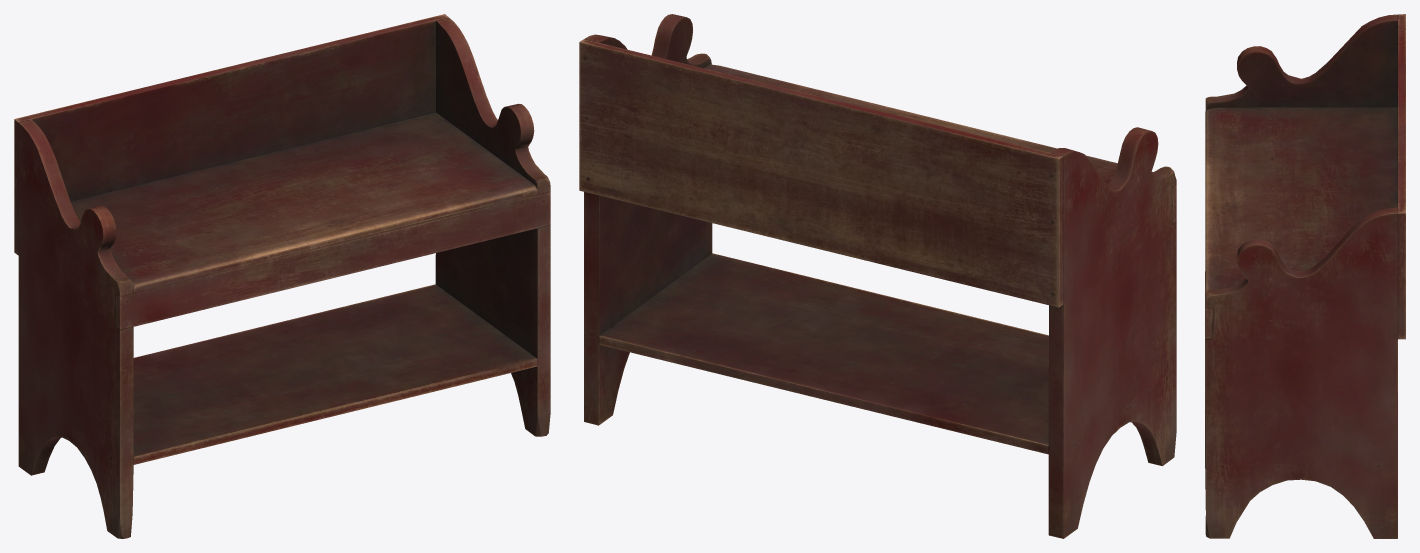
Rendered from painted_wooden_bench.glb.
3 views of the same model, side by side, from view 1: azimuth 30°, elevation 25°; view 2: azimuth 150°, elevation 25°; view 3: azimuth 270°, elevation 25° (orthographic). The views are drawn at different scales.
Visible parts, largest first — view 1: painted_wooden_bench; view 2: painted_wooden_bench; view 3: painted_wooden_bench.
Part boxes in pixels (box(x1,y1,x2,y2)): painted_wooden_bench: box(14, 14, 550, 538); painted_wooden_bench: box(579, 14, 1176, 538); painted_wooden_bench: box(1205, 14, 1405, 538).
Size of the model in its own units: 1.16 by 0.8893 by 0.4966.
1 material, 1 textured.
